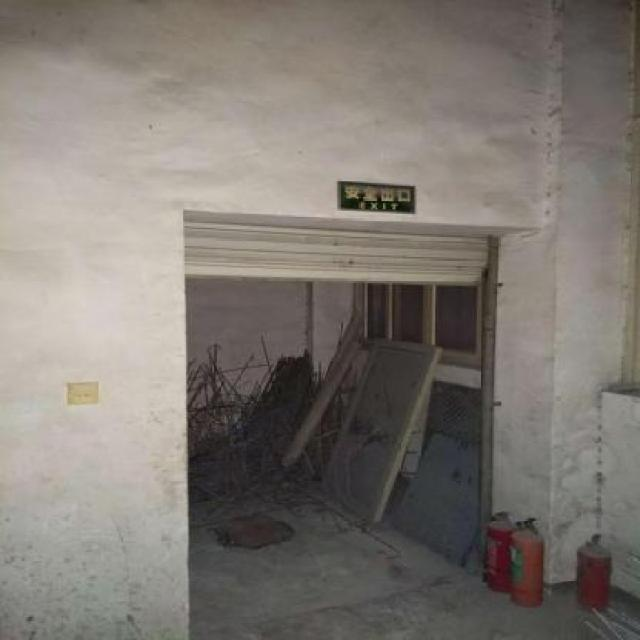exit_sign: (332, 172, 428, 215)
